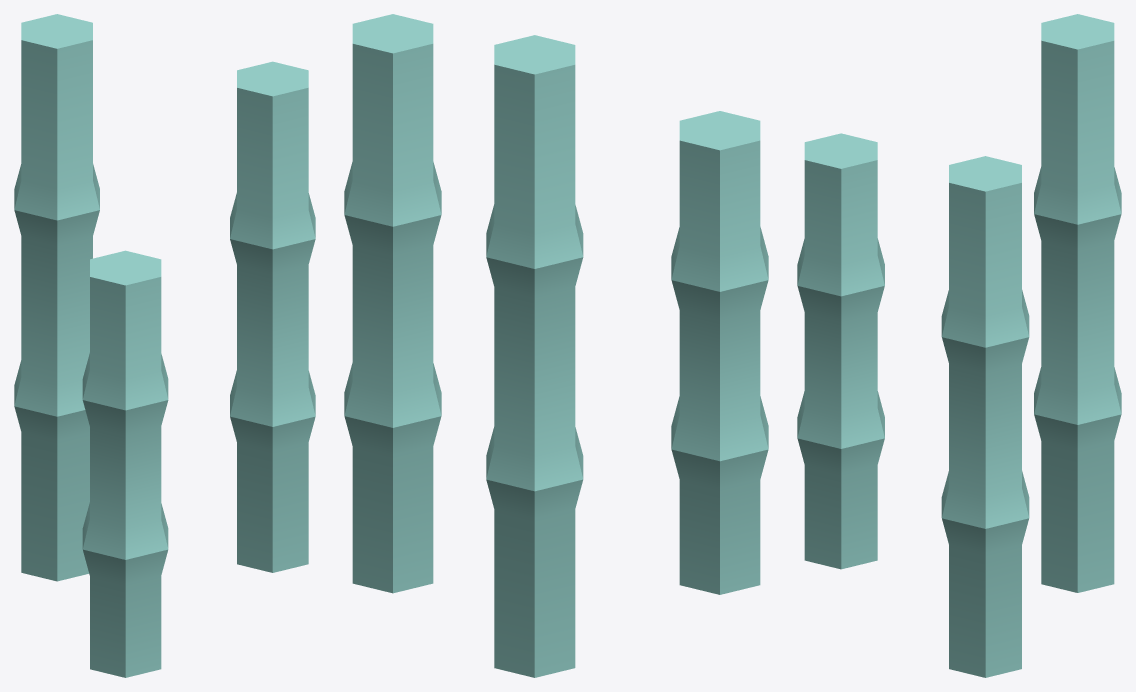
Rendered from bamboo.glb.
3 renders of one model, left to right at view 1: azimuth 30°, elevation 25°; view 2: azimuth 150°, elevation 25°; view 3: azimuth 270°, elevation 25°, orthographic. The views are drawn at different scales.
Visible parts, largest first — view 1: bamboo; view 2: bamboo; view 3: bamboo.
Part boxes in pixels (<box>): bamboo: <box>14,14,315,677</box>; bamboo: <box>344,14,768,677</box>; bamboo: <box>797,14,1121,677</box>.
Size of the model in its own units: 0.3401 by 0.57 by 0.308.
